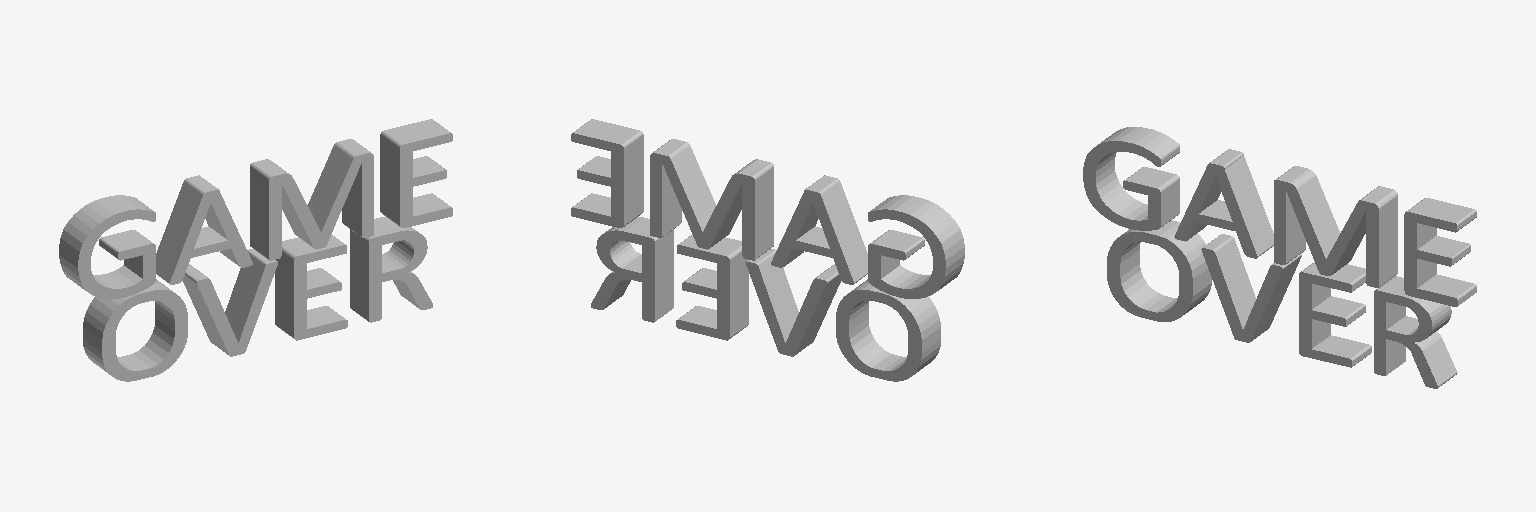
File: gameover.obj
3 views of the same model, side by side, from view 1: azimuth 30°, elevation 25°; view 2: azimuth 150°, elevation 25°; view 3: azimuth 330°, elevation 25° (orthographic).
Parts seen in each view (by area): view 1: Game_Over2; view 2: Game_Over2; view 3: Game_Over2.
Boxes of the visible parts, <box> form: Game_Over2: <box>59,119,452,381</box>; Game_Over2: <box>571,119,964,381</box>; Game_Over2: <box>1083,127,1476,388</box>.
Size of the model in its own units: 11.18 by 4.9 by 1.